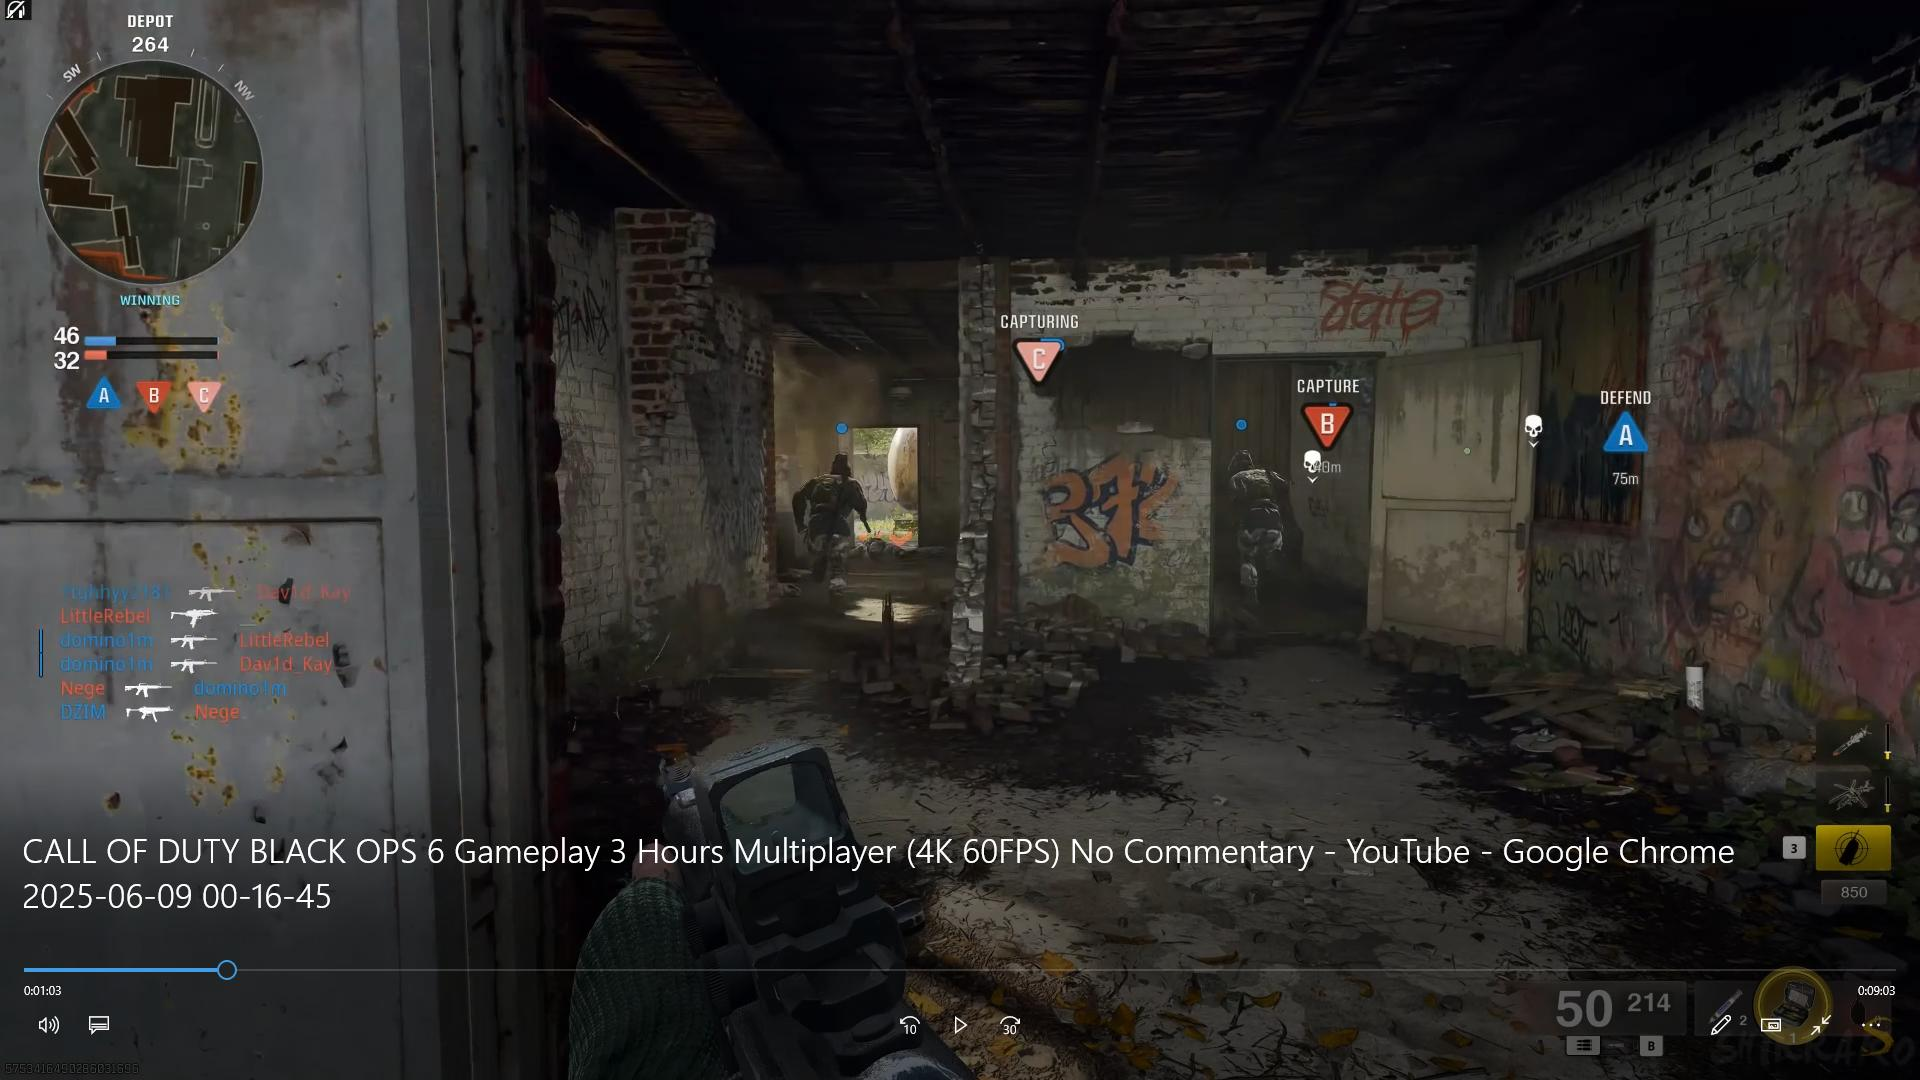Enemy: (1217, 450, 1294, 611), (789, 458, 870, 587)
